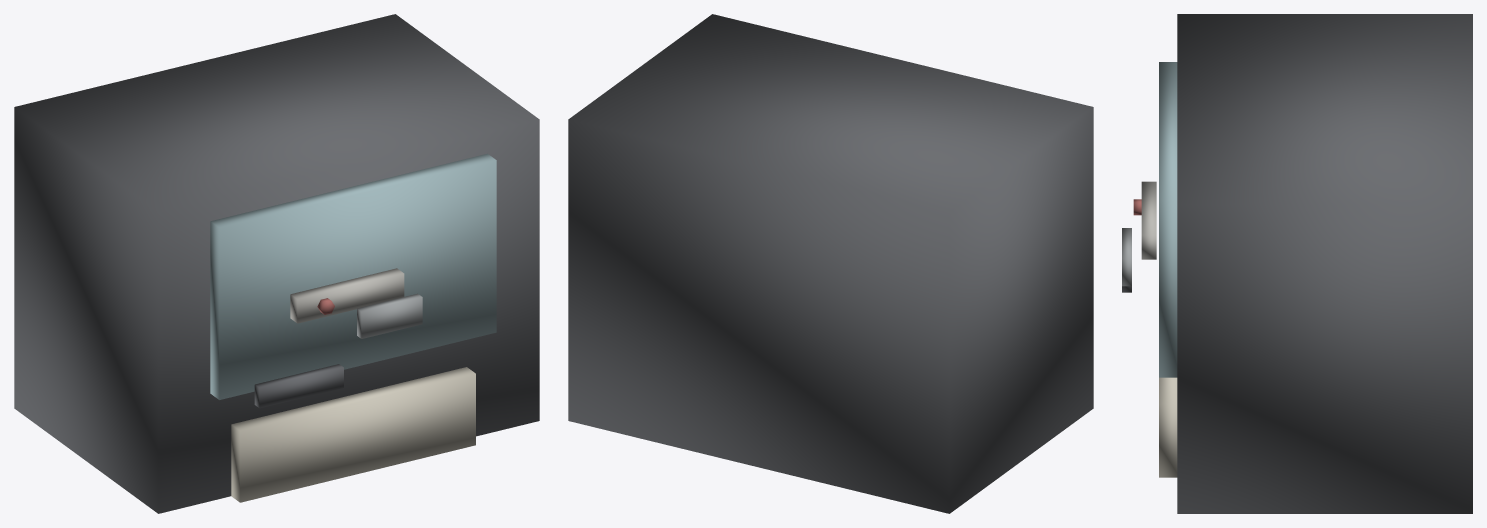
Rendered from flat_monitor__weathered.glb.
3 renders of one model, left to right at view 1: azimuth 30°, elevation 25°; view 2: azimuth 150°, elevation 25°; view 3: azimuth 270°, elevation 25°, orthographic. The views are drawn at different scales.
Parts seen in each view (by area): view 1: world; view 2: world; view 3: world.
Boxes of the visible parts, x1,y1,x2,y2 form: world: (14, 14, 539, 513); world: (568, 14, 1093, 513); world: (1122, 14, 1472, 513).
Size of the model in its own units: 0.55 by 0.4158 by 0.4275.
